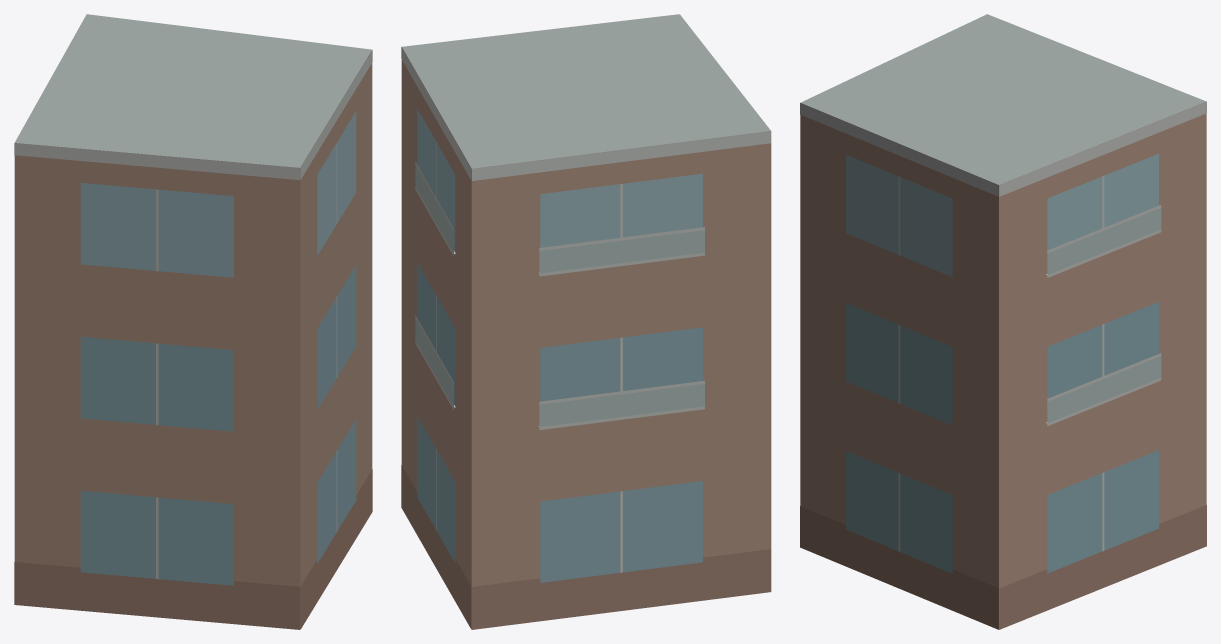
Rendered from survey-upis-32492542.glb.
3 renders of one model, left to right at view 1: azimuth 30°, elevation 25°; view 2: azimuth 150°, elevation 25°; view 3: azimuth 270°, elevation 25°, orthographic. The views are drawn at different scales.
Visible parts, largest first — view 1: survey-upis-32492542.tmp; view 2: survey-upis-32492542.tmp; view 3: survey-upis-32492542.tmp.
Boxes of the visible parts, left/top/right/bottom form: survey-upis-32492542.tmp: left=14, top=14, right=372, bottom=629; survey-upis-32492542.tmp: left=401, top=14, right=771, bottom=629; survey-upis-32492542.tmp: left=800, top=14, right=1206, bottom=629.
Size of the model in its own units: 7.56 by 9.15 by 7.58.
